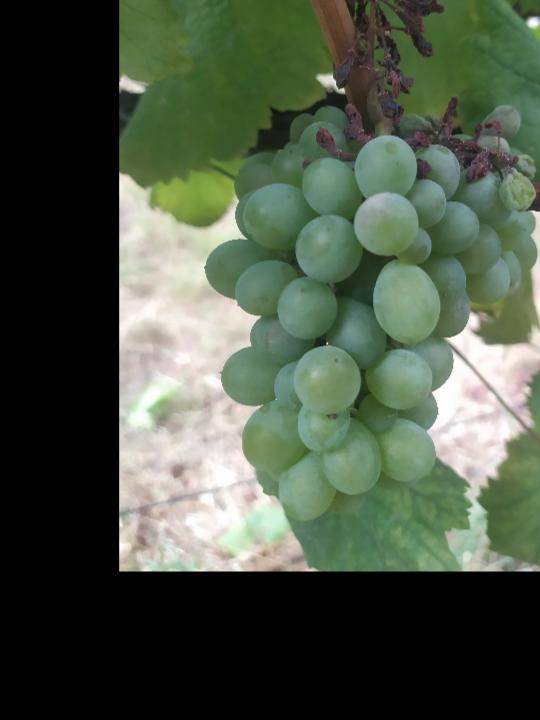grape: (201, 0, 540, 524)
